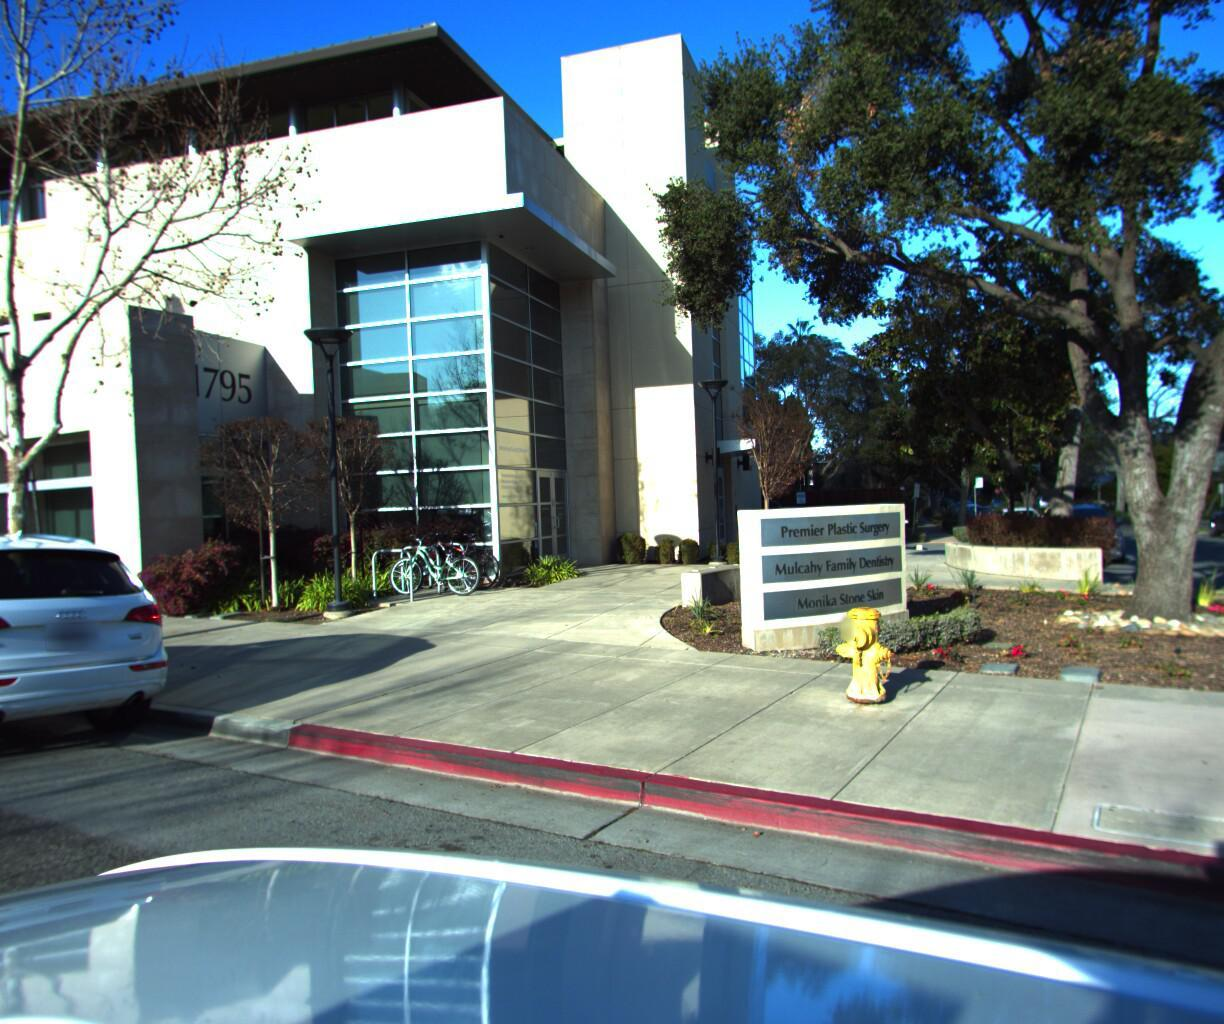bicycle: (377, 524, 491, 594), (402, 523, 511, 587)
car: (1034, 494, 1133, 563), (836, 490, 908, 547), (756, 496, 831, 550), (993, 497, 1048, 537), (1202, 486, 1224, 533)
